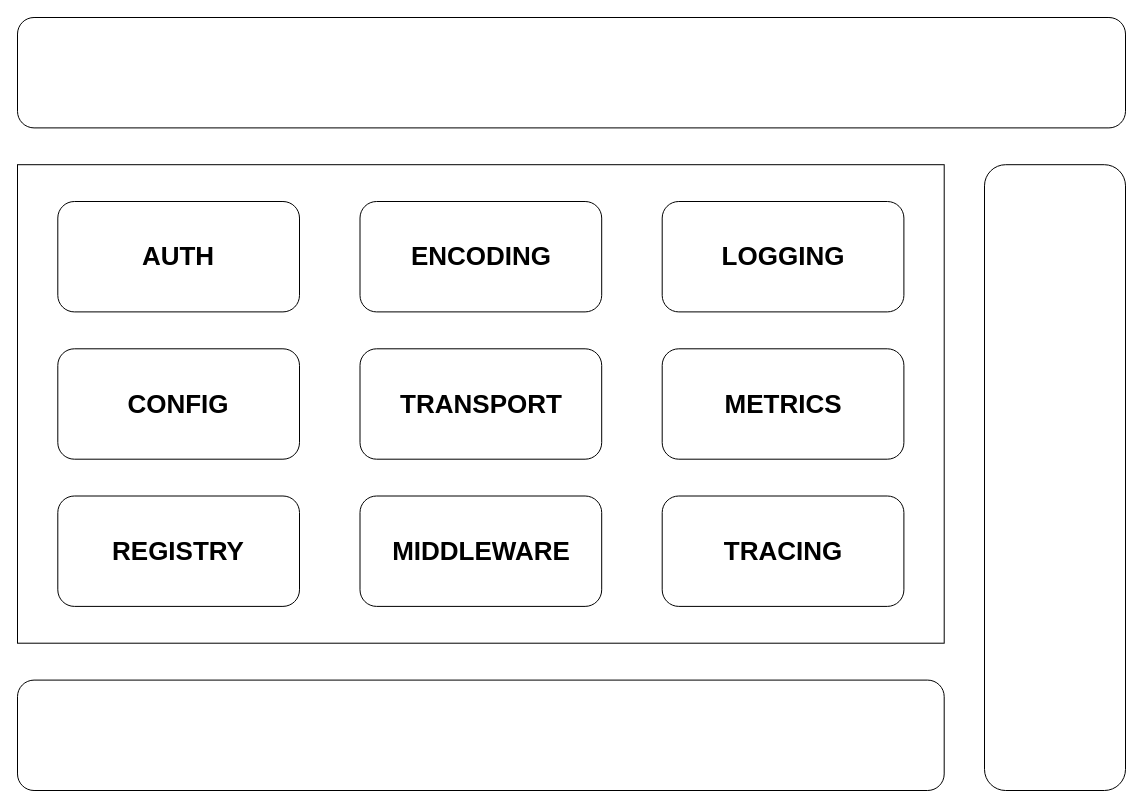
The diagram is 1143 pixels wide and 808 high, and some of its shapes have lost their labels. The centre of each missing label's shape, as x and y in pixels:
API / Error: the point at 571,72
DATABASE / CACHE: the point at 480,734
DI (Wire): the point at 1055,477
